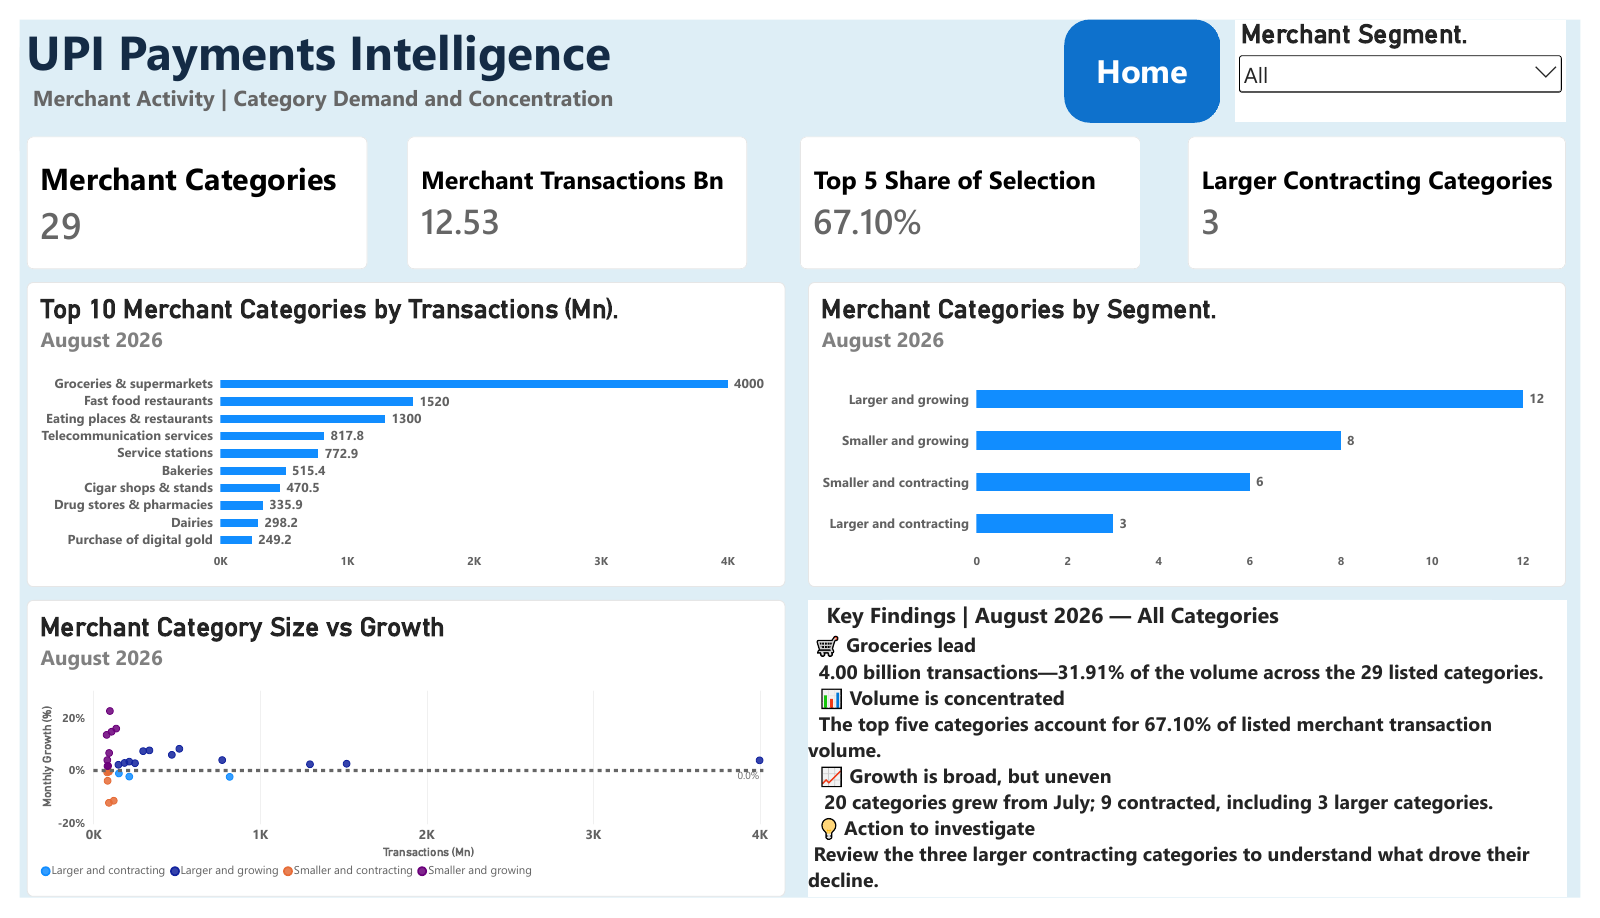

The dashboard page shown, as its layout file describes it:
{"tool":"powerbi","page":{"name":"Merchant  Activity","canvas":[1920,1080],"ordinal":2},"visuals":[{"type":"textbox","box":[9.4,0,806.5,159.4],"z":0},{"type":"clusteredBarChart","title":"Top 10 Merchant Categories by Transactions (Mn).","fields":{"Category":["dim_merchant.merchant"],"Y":["Sum(fact_merchant.volume_mn)"]},"box":[9.3,323.3,932.6,374.4],"z":1000},{"type":"scatterChart","title":"Merchant Category Size vs Growth","fields":{"Category":["dim_merchant.mcc"],"Series":["fact_merchant.segment"],"X":["Sum(fact_merchant.volume_mn)"],"Y":["Avg(fact_merchant.mom_volume)"]},"box":[9.3,714,932.6,365.1],"z":2000},{"type":"clusteredBarChart","title":"Merchant Categories by Segment.","fields":{"Category":["fact_merchant.segment"],"Y":["Count(fact_merchant.mcc)"]},"box":[969.8,323.3,932.6,374.4],"z":3000},{"type":"shape","box":[970,714,933,365],"z":4000},{"type":"textbox","box":[969.8,714,932.6,365.1],"z":5000},{"type":"cardVisual","fields":{"Data":["fact_merchant.Merchant Categories"]},"box":[9.3,144.2,418.6,162.8],"z":6000},{"type":"cardVisual","fields":{"Data":["fact_merchant.Merchant Transactions Bn"]},"box":[476.7,144.2,418.6,162.8],"z":7000},{"type":"cardVisual","fields":{"Data":["fact_merchant.Top 5 Merchant Share"]},"box":[960.5,144.2,418.6,162.8],"z":8000},{"type":"cardVisual","fields":{"Data":["fact_merchant.Larger Contracting Categories"]},"box":[1437.2,144.2,465.1,162.8],"z":9000},{"type":"slicer","fields":{"Values":["fact_merchant.segment"]},"box":[1495.3,0,407,125.6],"z":10000},{"type":"actionButton","box":[1284.8,0,192.2,126.6],"z":10001}]}

Visuals, with their boxes in screenshot pixels (x1, y1, x2, y2), scaled from the page's 1920x1080 canvas onto the 1600x918 screenshot:
textbox: {"left": 8, "top": 0, "right": 680, "bottom": 135}
"Top 10 Merchant Categories by Transactions (Mn)." clusteredBarChart: {"left": 8, "top": 275, "right": 785, "bottom": 593}
"Merchant Category Size vs Growth" scatterChart: {"left": 8, "top": 607, "right": 785, "bottom": 917}
"Merchant Categories by Segment." clusteredBarChart: {"left": 808, "top": 275, "right": 1585, "bottom": 593}
shape: {"left": 808, "top": 607, "right": 1586, "bottom": 917}
textbox: {"left": 808, "top": 607, "right": 1585, "bottom": 917}
cardVisual - fact_merchant.Merchant Categories: {"left": 8, "top": 123, "right": 357, "bottom": 261}
cardVisual - fact_merchant.Merchant Transactions Bn: {"left": 397, "top": 123, "right": 746, "bottom": 261}
cardVisual - fact_merchant.Top 5 Merchant Share: {"left": 800, "top": 123, "right": 1149, "bottom": 261}
cardVisual - fact_merchant.Larger Contracting Categories: {"left": 1198, "top": 123, "right": 1585, "bottom": 261}
slicer - fact_merchant.segment: {"left": 1246, "top": 0, "right": 1585, "bottom": 107}
actionButton: {"left": 1071, "top": 0, "right": 1231, "bottom": 108}
